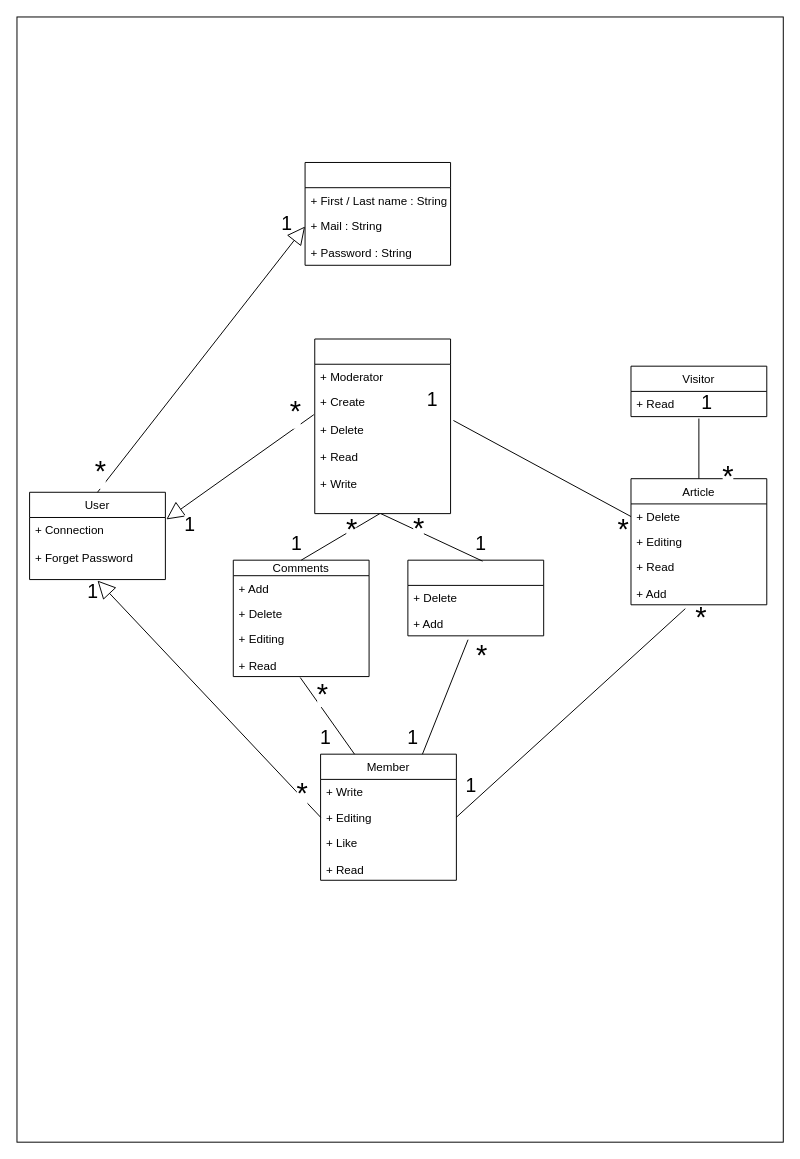
Some shapes in this 800 by 1159 pixel diagram are drawn without their labels. Each missing label, with the box of its shape:
Admin: (314, 338, 451, 514)
Like: (407, 559, 544, 636)
Sign up: (304, 162, 451, 265)
